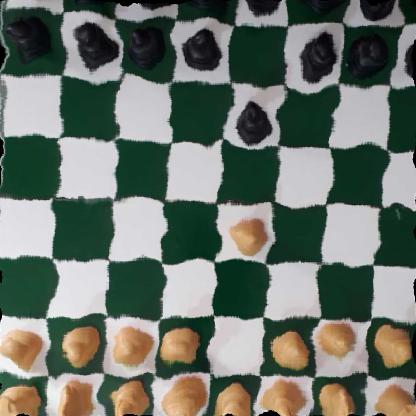black-bishop: (299, 0, 348, 15), (131, 0, 178, 11)
black-king: (239, 0, 288, 18)
black-knight: (359, 0, 408, 23), (64, 0, 115, 9)
black-pawn: (296, 29, 339, 83), (4, 13, 53, 60), (70, 17, 112, 70), (231, 94, 276, 141), (183, 26, 227, 72), (125, 22, 167, 67), (346, 30, 385, 76), (403, 32, 416, 83)
black-queen: (182, 0, 236, 14)
black-rook: (409, 0, 416, 19)
white-bishop: (109, 375, 150, 416), (264, 378, 308, 416)
white-king: (216, 382, 255, 416)
white-knight: (317, 378, 359, 416), (57, 377, 96, 416)
white-pawn: (225, 211, 268, 258), (56, 319, 99, 365), (372, 322, 416, 366), (268, 326, 314, 368), (157, 323, 202, 365), (0, 326, 42, 368), (319, 318, 362, 359), (108, 324, 148, 368)
white-queen: (161, 372, 207, 416)
white-rook: (0, 378, 43, 416), (372, 383, 416, 416)
